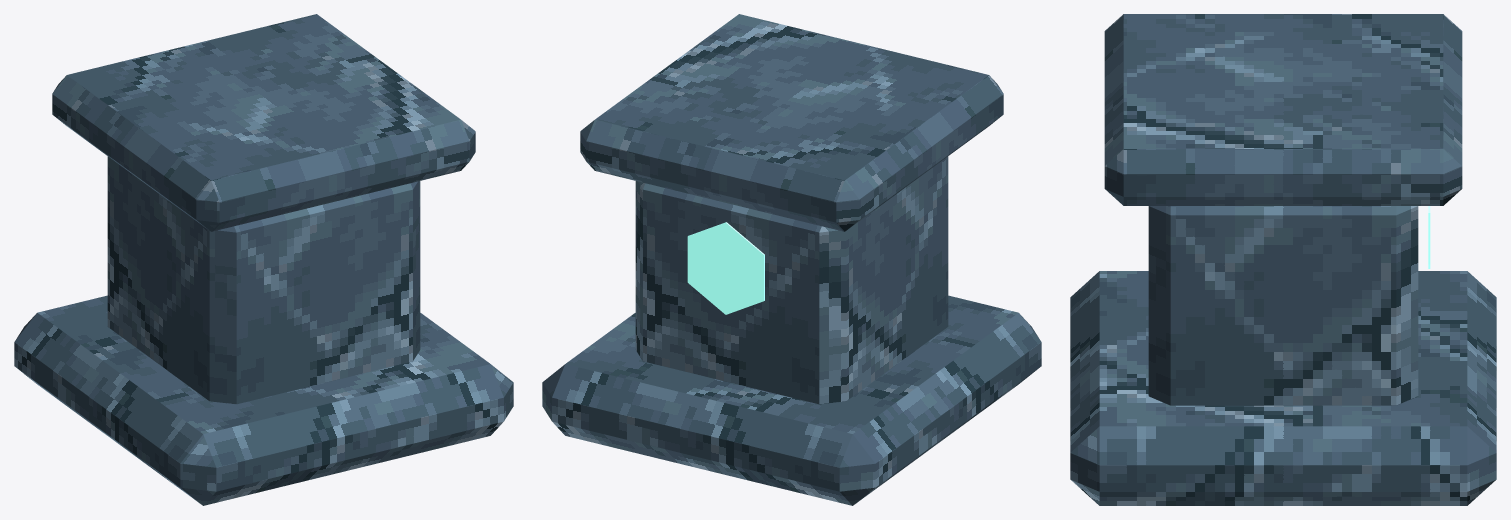
The model's file is totem_dominio.glb.
3 renders of one model, left to right at view 1: azimuth 30°, elevation 25°; view 2: azimuth 150°, elevation 25°; view 3: azimuth 270°, elevation 25°, orthographic. The views are drawn at different scales.
Visible parts, largest first — view 1: neve_totem_dominio; view 2: neve_totem_dominio; view 3: neve_totem_dominio.
Boxes of the visible parts, left/top/right/bottom form: neve_totem_dominio: left=14, top=14, right=513, bottom=505; neve_totem_dominio: left=542, top=14, right=1041, bottom=505; neve_totem_dominio: left=1070, top=14, right=1496, bottom=505.
Bounding box in the file's own units: 0.68 × 0.61 × 0.68.
2 materials, 1 textured.
